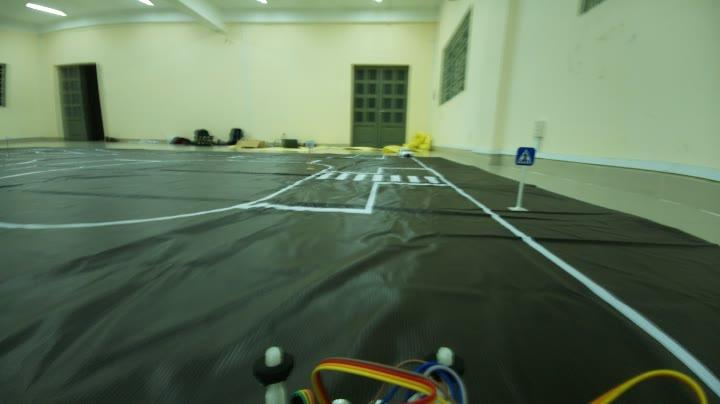crosswalk: (514, 146, 532, 168)
